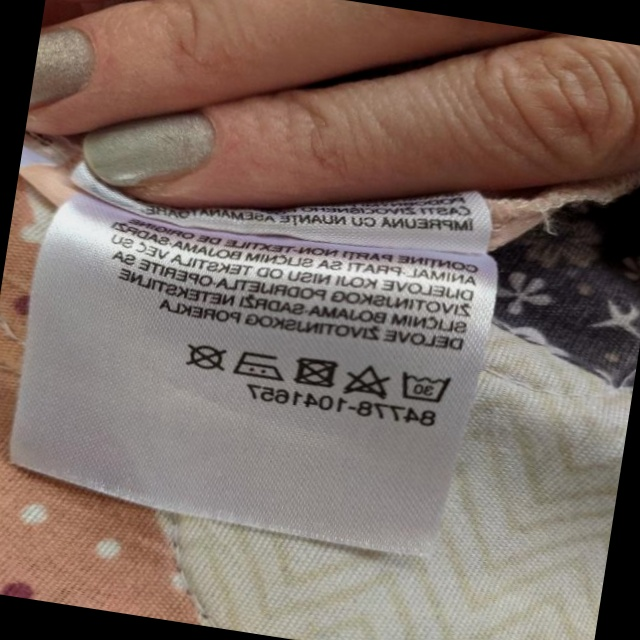30C: (393, 364, 454, 408)
DN_bleach: (343, 358, 392, 403)
DN_dry_clean: (181, 340, 230, 375)
DN_tumble_dry: (290, 352, 342, 394)
iron_medium: (229, 344, 287, 383)
